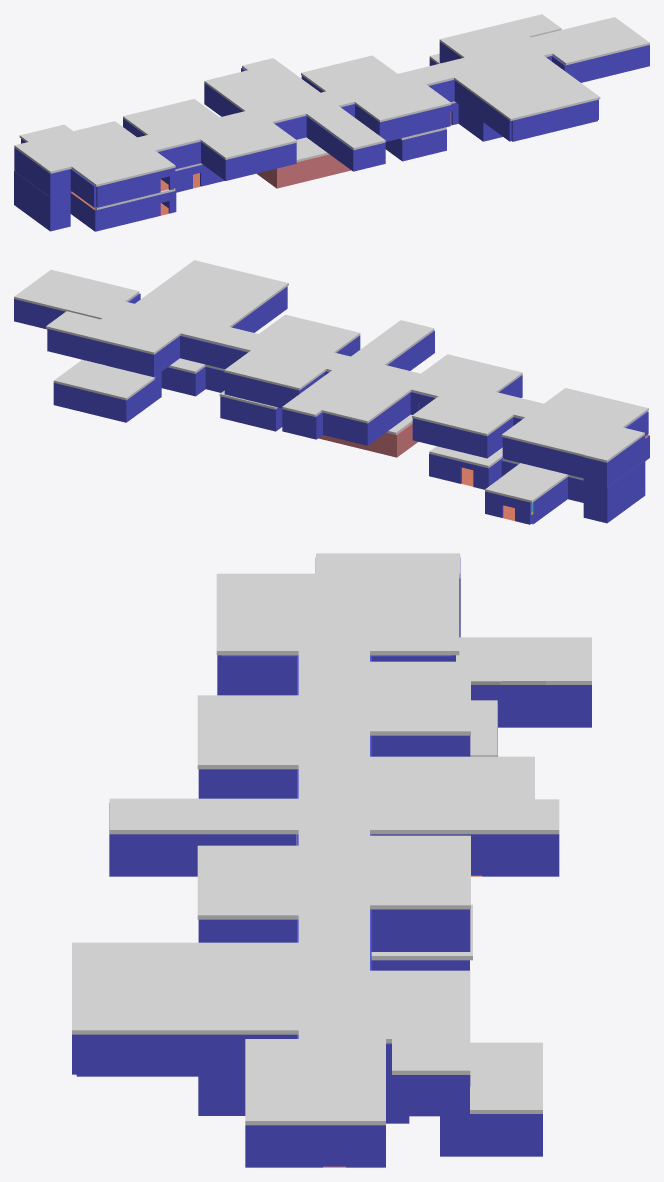
The model's file is Hospital.glb.
3 renders of one model, top to bottom at view 1: azimuth 30°, elevation 25°; view 2: azimuth 150°, elevation 25°; view 3: azimuth 270°, elevation 25°, orthographic. The views are drawn at different scales.
Visible parts, largest first — view 1: TechoPasilloSegun-col, TechoBaños-col, TechoRecepcion2-col, PasilloHab2-col, BañosPiso2-col, TechoFinalSeg-col, Lobby1-col, Lobby2-col, Habitacion2-col, TechoHab2-col, TehcoHabJug-col, Pasillo-col (+18 smaller); view 2: TechoPasilloSegun-col, TechoBaños-col, TechoRecepcion2-col, PasilloHab2-col, TechoFinalSeg-col, Consejeria-col, TechoMorgue-col, Morgue-col, Pasillo-col, TechoHab4-col, TechoHab1-col, TechoHab3-col (+23 smaller); view 3: TechoPasilloSegun-col, TechoBaños-col, TechoRecepcion2-col, TechoFinalSeg-col, PasilloHab2-col, BañosPiso2-col, TechoHab2-col, TehcoHabJug-col, TechoHab1-col, TechoHab4-col, TechoHab3-col, TechoPasilloDerecha (+19 smaller).
Part boxes in pixels (box(x1,y1,x2,y2)): TechoPasilloSegun-col: box(137, 40, 552, 151); TechoBaños-col: box(454, 55, 600, 120); TechoRecepcion2-col: box(36, 121, 175, 186); PasilloHab2-col: box(157, 55, 552, 171); BañosPiso2-col: box(454, 80, 598, 141); TechoFinalSeg-col: box(531, 17, 649, 65); Lobby1-col: box(70, 190, 176, 231); Lobby2-col: box(70, 168, 175, 207); Habitacion2-col: box(201, 142, 296, 180); TechoHab2-col: box(200, 122, 297, 159); TehcoHabJug-col: box(354, 84, 451, 122); Pasillo-col: box(14, 171, 70, 231); TechoPasilloSegun-col: box(107, 301, 543, 418); TechoBaños-col: box(135, 260, 288, 327); TechoRecepcion2-col: box(501, 388, 648, 456); PasilloHab2-col: box(180, 330, 522, 439); TechoFinalSeg-col: box(14, 269, 139, 319); Consejeria-col: box(47, 329, 179, 376); TechoMorgue-col: box(53, 360, 154, 400); Morgue-col: box(53, 382, 152, 422); Pasillo-col: box(583, 460, 645, 523); TechoHab4-col: box(224, 350, 326, 390); TechoHab1-col: box(412, 396, 513, 436); TechoHab3-col: box(321, 378, 411, 423); TechoPasilloSegun-col: box(298, 651, 369, 1038); TechoBaños-col: box(72, 942, 298, 1034); TechoRecepcion2-col: box(216, 573, 459, 655); TechoFinalSeg-col: box(245, 1039, 385, 1125); PasilloHab2-col: box(109, 656, 559, 1038); BañosPiso2-col: box(72, 1034, 296, 1076); TechoHab2-col: box(197, 695, 298, 769); TehcoHabJug-col: box(197, 845, 298, 919); TechoHab1-col: box(370, 661, 470, 735); TechoHab4-col: box(370, 835, 470, 909); TechoHab3-col: box(370, 756, 534, 799); TechoPasilloDerecha: box(109, 798, 298, 834).
Size of the model in its own units: 143 by 14.03 by 55.5.
